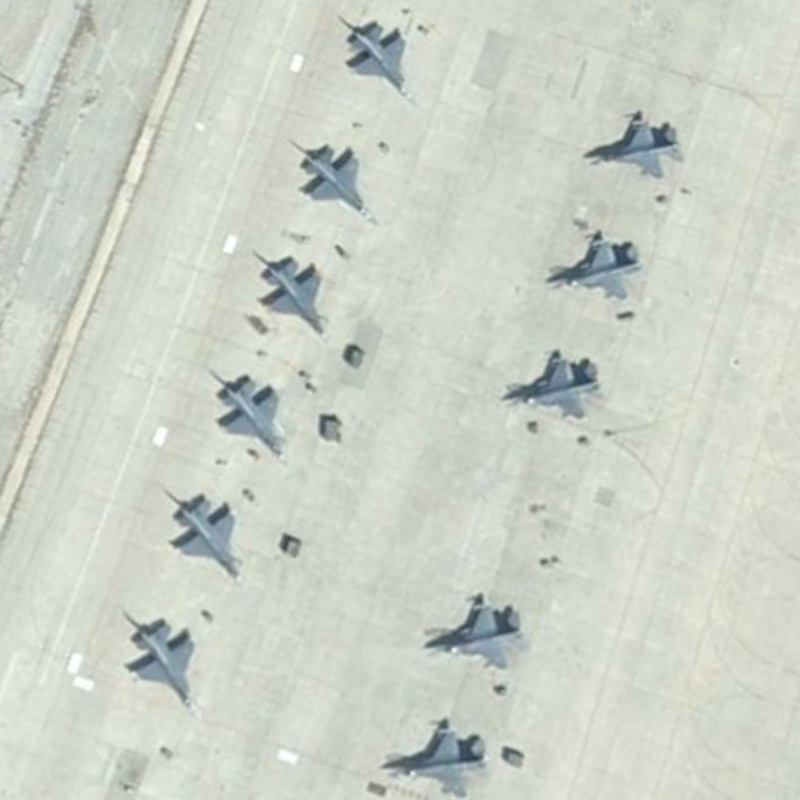A5: (414, 584, 533, 675), (379, 714, 501, 800), (499, 343, 608, 424), (542, 224, 646, 306), (580, 107, 690, 184), (126, 611, 200, 721), (294, 136, 381, 228), (211, 372, 292, 469), (338, 18, 420, 110), (254, 249, 330, 346), (169, 492, 245, 589)
